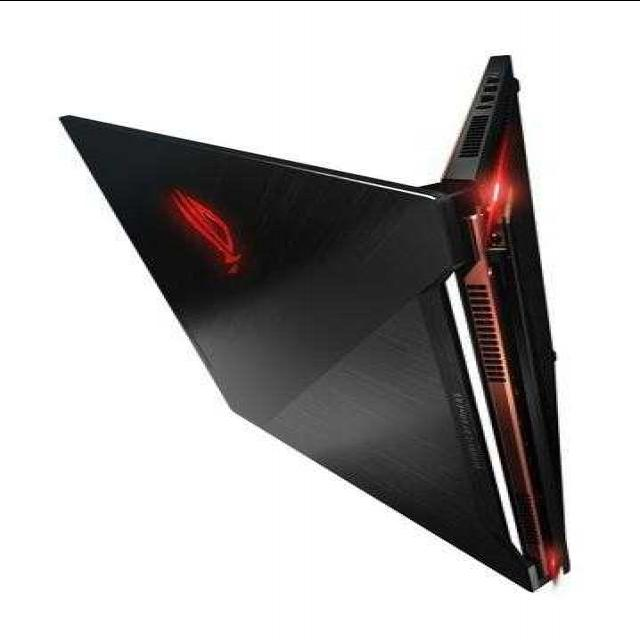laptop: (54, 33, 580, 586)
